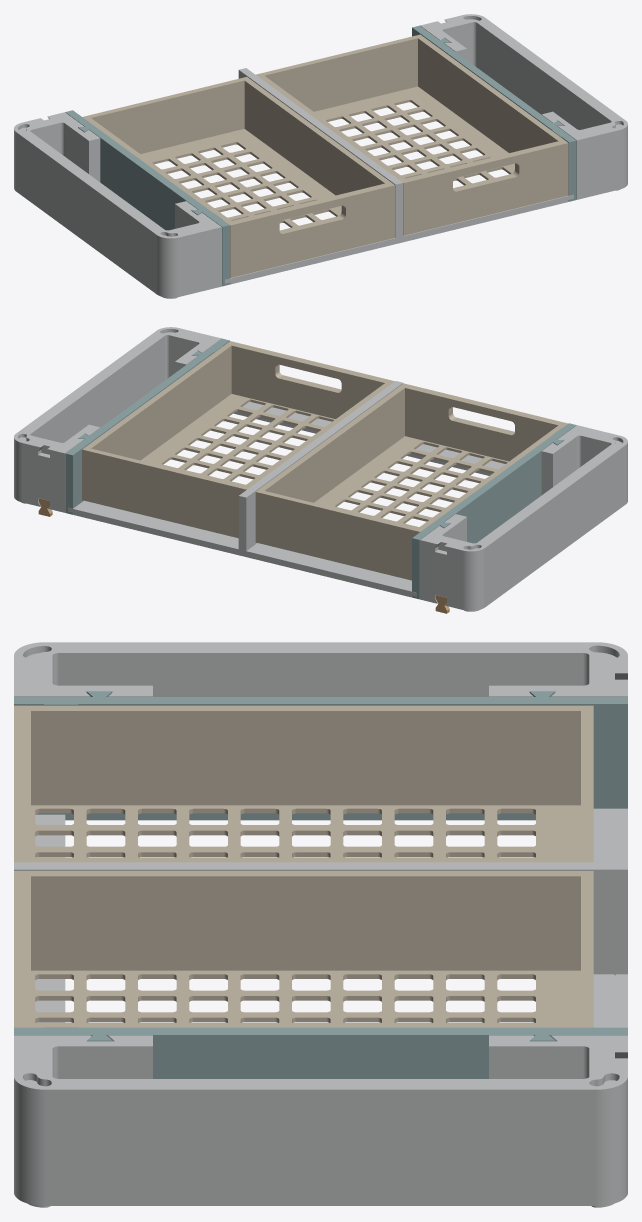
The model's file is layer-assembly.glb.
The picture shows the model from 3 angles, top to bottom: view 1: azimuth 30°, elevation 25°; view 2: azimuth 150°, elevation 25°; view 3: azimuth 270°, elevation 25°; orthographic projection. The views are drawn at different scales.
Parts seen in each view (by area): view 1: D02, D03, D04, D05, D12, D13, D01, D06, D07; view 2: D02, D03, D04, D05, D12, D09, D08, D13, D01, D07, D06; view 3: D05, D02, D03, D04, D13, D12, D01, D08, D09, D07.
Part boxes in pixels (bbox=[...]): D02: bbox=[82, 77, 395, 277]; D03: bbox=[256, 34, 568, 235]; D04: bbox=[14, 112, 221, 298]; D05: bbox=[420, 14, 627, 199]; D12: bbox=[65, 110, 229, 286]; D13: bbox=[412, 25, 576, 201]; D01: bbox=[238, 68, 403, 237]; D06: bbox=[225, 237, 399, 284]; D07: bbox=[399, 194, 573, 242]; D02: bbox=[255, 383, 568, 580]; D03: bbox=[82, 341, 394, 538]; D04: bbox=[420, 425, 627, 611]; D05: bbox=[14, 327, 221, 512]; D12: bbox=[412, 423, 576, 599]; D09: bbox=[68, 500, 242, 555]; D08: bbox=[242, 543, 416, 597]; D13: bbox=[65, 338, 229, 514]; D01: bbox=[238, 381, 403, 550]; D07: bbox=[233, 402, 331, 433]; D06: bbox=[407, 444, 505, 475]; D05: bbox=[14, 1035, 627, 1207]; D02: bbox=[14, 705, 593, 862]; D03: bbox=[14, 871, 593, 1027]; D04: bbox=[14, 642, 627, 696]; D13: bbox=[14, 1027, 627, 1078]; D12: bbox=[14, 691, 627, 820]; D01: bbox=[14, 862, 627, 974]; D08: bbox=[593, 808, 627, 975]; D09: bbox=[593, 974, 627, 1027]; D07: bbox=[35, 979, 65, 1022].
Bounding box in the file's own units: 0.495 × 0.068 × 0.287.
